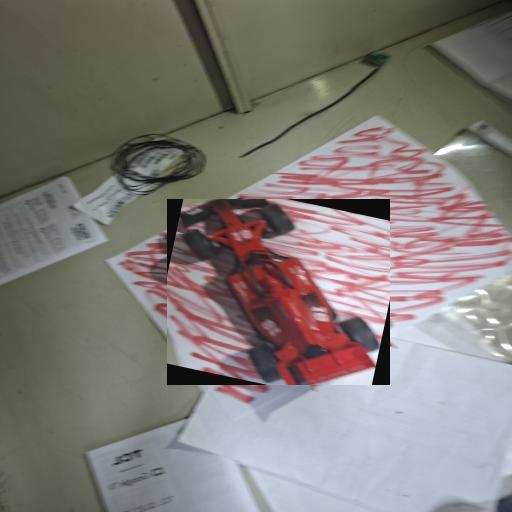carro: (167, 200, 388, 384)
